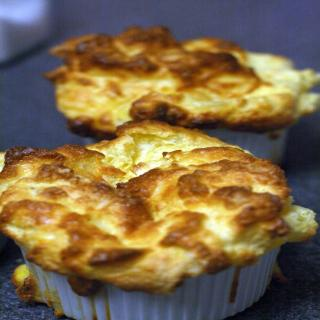Muffin: (0, 127, 305, 320), (40, 27, 320, 168)
